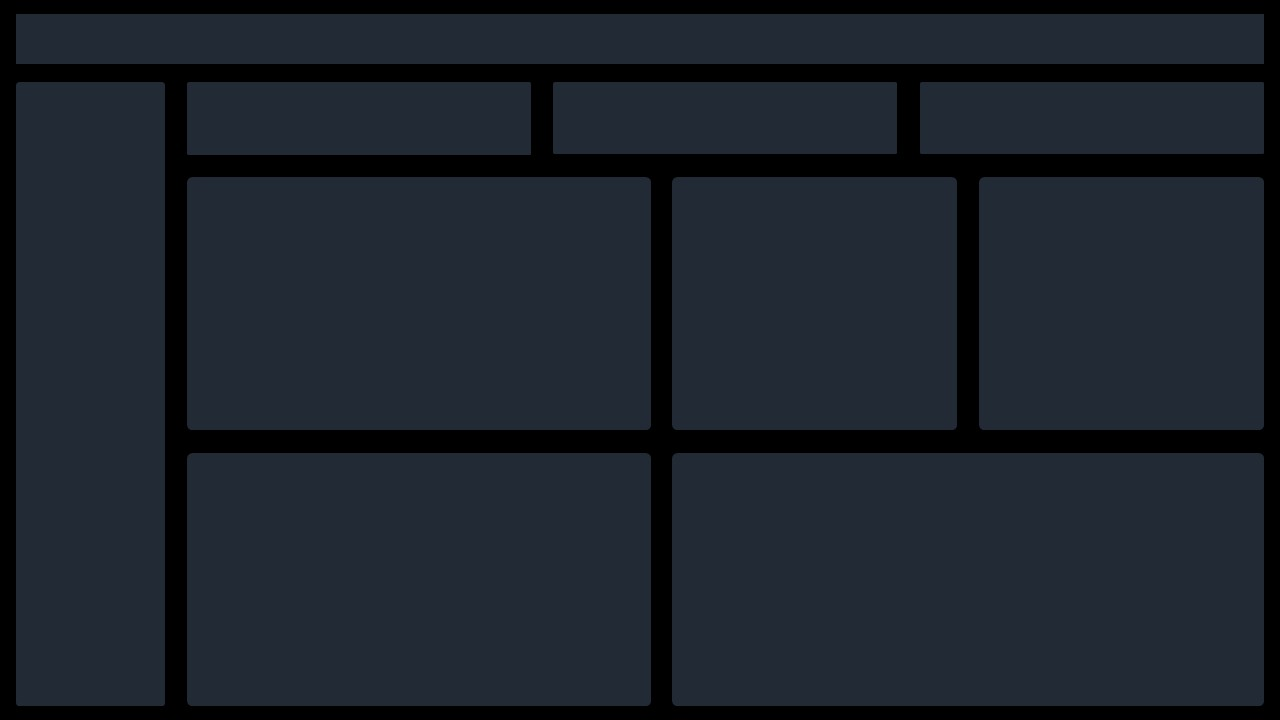

The dashboard page shown, as its layout file describes it:
{"tool":"tableau","page":{"name":"Dashboard 1","canvas":[1600,900],"ordinal":0},"visuals":[{"type":"image","param":"C:/Users/Chamika/Desktop/DS Projects/Car Sales Tableau Dashboard/Car Sales Backg","box":[8,8,1584,884]},{"type":"text","box":[497,29,497,59]},{"type":"image","param":"C:/Users/Chamika/Downloads/Images Used-20260710T140321Z-2-001/Images Used/Car Ic","box":[421,33,65,51]},{"type":"worksheet","title":"Date Range","mark":"Automatic","box":[1302,35,240,49]},{"type":"image","param":"C:/Users/Chamika/Downloads/Images Used-20260710T140321Z-2-001/Images Used/calend","box":[1268,40,43,37]},{"type":"image","param":"C:/Users/Chamika/Downloads/Images Used-20260710T140321Z-2-001/Images Used/Sales ","box":[622,112,43,37]},{"type":"worksheet","title":"YTD AVG Price","mark":"Automatic","box":[693,112,417,86]},{"type":"image","param":"C:/Users/Chamika/Downloads/Images Used-20260710T140321Z-2-001/Images Used/Avg Pr","box":[1066,112,43,37]},{"type":"worksheet","title":"YTD Car Sold","mark":"Automatic","box":[1141,113,419,91]},{"type":"worksheet","title":"YTD Total Sales","mark":"Automatic","box":[250,114,417,87]},{"type":"image","param":"C:/Users/Chamika/Downloads/Images Used-20260710T140321Z-2-001/Images Used/Cars S","box":[1515,114,43,37]},{"type":"text","box":[56,149,150,30]},{"type":"text","box":[59,224,150,30]},{"type":"worksheet","title":"YTD Sales Weekly Trend","mark":"Area","rows":["Calculation_0494526961999872","Calculation_0494526961999872"],"cols":["Date"],"box":[249,228,564,307]},{"type":"worksheet","title":"YTD Total Sales by Color","mark":"Pie","rows":["Calculation_0494527105634314","Calculation_0494527105671180"],"box":[1214,228,344,307]},{"type":"worksheet","title":"YTD Total Sales by Body Style","mark":"Pie","box":[839,230,342,304]},{"type":"filter","title":"YTD Sales Weekly Trend","param":"[federated.12583ac114s6gj1ge802z1gaqkpz].[none:Date:qk]","box":[44,282,172,65]},{"type":"filter","title":"YTD Sales Weekly Trend","param":"[federated.12583ac114s6gj1ge802z1gaqkpz].[none:Transmission:nk]","box":[43,381,173,69]},{"type":"filter","title":"YTD Sales Weekly Trend","param":"[federated.12583ac114s6gj1ge802z1gaqkpz].[none:Body Style:nk]","box":[43,492,174,69]},{"type":"worksheet","title":"YTD Cars Sold by Dealers Region ","mark":"Automatic","rows":["Dealer_Region"],"cols":["Calculation_0494526961999872"],"box":[248,564,567,306]},{"type":"worksheet","title":"Company-Wise Sales Trend","mark":"Automatic","rows":["Company"],"box":[840,564,715,305]},{"type":"legend","title":"YTD Cars Sold by Dealers Region ","param":"[federated.12583ac114s6gj1ge802z1gaqkpz].[none:Transmission:nk]","box":[569,566,246,30]},{"type":"filter","title":"YTD Sales Weekly Trend","param":"[federated.12583ac114s6gj1ge802z1gaqkpz].[none:Engine:nk]","box":[43,604,173,72]},{"type":"filter","title":"YTD Sales Weekly Trend","param":"[federated.12583ac114s6gj1ge802z1gaqkpz].[none:Gender:nk]","box":[44,721,173,65]}]}

Visuals, with their boxes in screenshot pixels (x1, y1, x2, y2), scaled from the page's 1600x900 canvas onto the 1280x720 screenshot:
image: x1=6, y1=6, x2=1274, y2=714
text: x1=398, y1=23, x2=795, y2=70
image: x1=337, y1=26, x2=389, y2=67
"Date Range" worksheet: x1=1042, y1=28, x2=1234, y2=67
image: x1=1014, y1=32, x2=1049, y2=62
image: x1=498, y1=90, x2=532, y2=119
"YTD AVG Price" worksheet: x1=554, y1=90, x2=888, y2=158
image: x1=853, y1=90, x2=887, y2=119
"YTD Car Sold" worksheet: x1=913, y1=90, x2=1248, y2=163
"YTD Total Sales" worksheet: x1=200, y1=91, x2=534, y2=161
image: x1=1212, y1=91, x2=1246, y2=121
text: x1=45, y1=119, x2=165, y2=143
text: x1=47, y1=179, x2=167, y2=203
"YTD Sales Weekly Trend" worksheet (Area marks): x1=199, y1=182, x2=650, y2=428
"YTD Total Sales by Color" worksheet (Pie marks): x1=971, y1=182, x2=1246, y2=428
"YTD Total Sales by Body Style" worksheet (Pie marks): x1=671, y1=184, x2=945, y2=427
"YTD Sales Weekly Trend" filter: x1=35, y1=226, x2=173, y2=278
"YTD Sales Weekly Trend" filter: x1=34, y1=305, x2=173, y2=360
"YTD Sales Weekly Trend" filter: x1=34, y1=394, x2=174, y2=449
"YTD Cars Sold by Dealers Region " worksheet: x1=198, y1=451, x2=652, y2=696
"Company-Wise Sales Trend" worksheet: x1=672, y1=451, x2=1244, y2=695
"YTD Cars Sold by Dealers Region " legend: x1=455, y1=453, x2=652, y2=477
"YTD Sales Weekly Trend" filter: x1=34, y1=483, x2=173, y2=541
"YTD Sales Weekly Trend" filter: x1=35, y1=577, x2=174, y2=629
